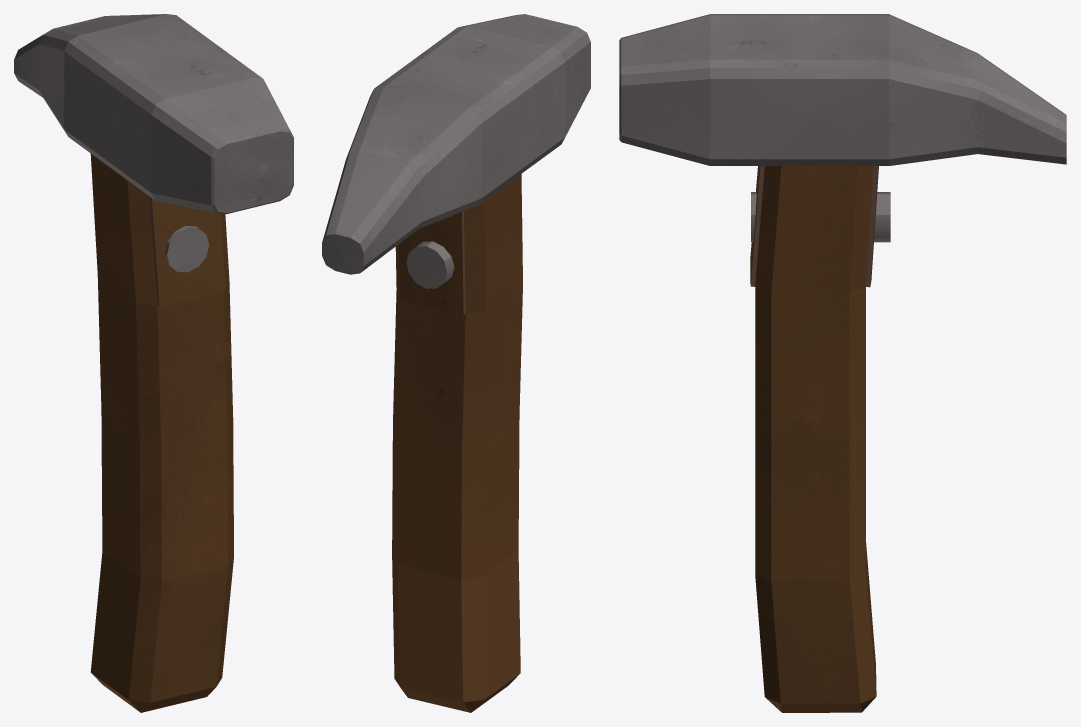
The model's file is hammer2.fbx.
3 views of the same model, side by side, from view 1: azimuth 30°, elevation 25°; view 2: azimuth 150°, elevation 25°; view 3: azimuth 270°, elevation 25° (orthographic). The views are drawn at different scales.
Parts seen in each view (by area): view 1: Cube.017; view 2: Cube.017; view 3: Cube.017.
Part boxes in pixels (box(x1,y1,x2,y2)): Cube.017: box(14, 14, 293, 712); Cube.017: box(322, 14, 590, 712); Cube.017: box(619, 14, 1066, 712).
Bounding box in the file's own units: 0.2264 × 1.2 × 0.7354.
